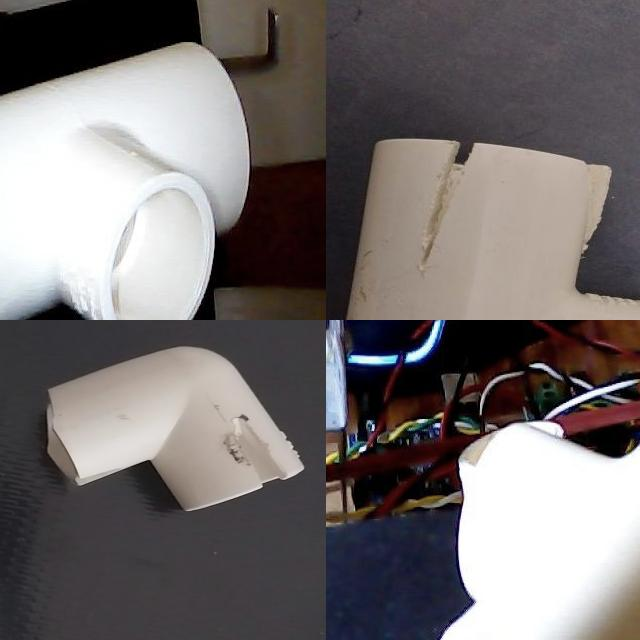Defective: (413, 134, 500, 290), (213, 415, 297, 499), (570, 154, 616, 276)
L Joint: (46, 347, 305, 513)
T Joint: (0, 42, 252, 320), (343, 139, 640, 320), (441, 421, 640, 640)
